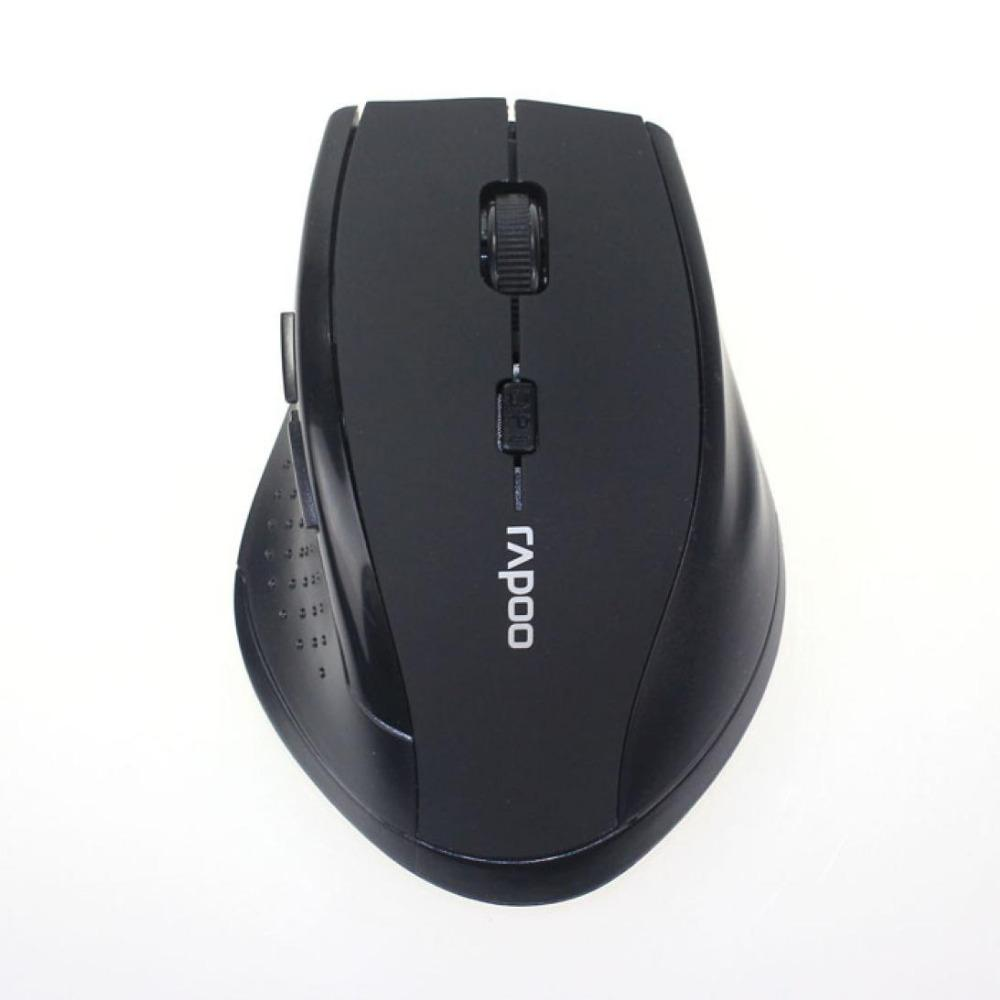Mouse: (207, 82, 806, 937)
